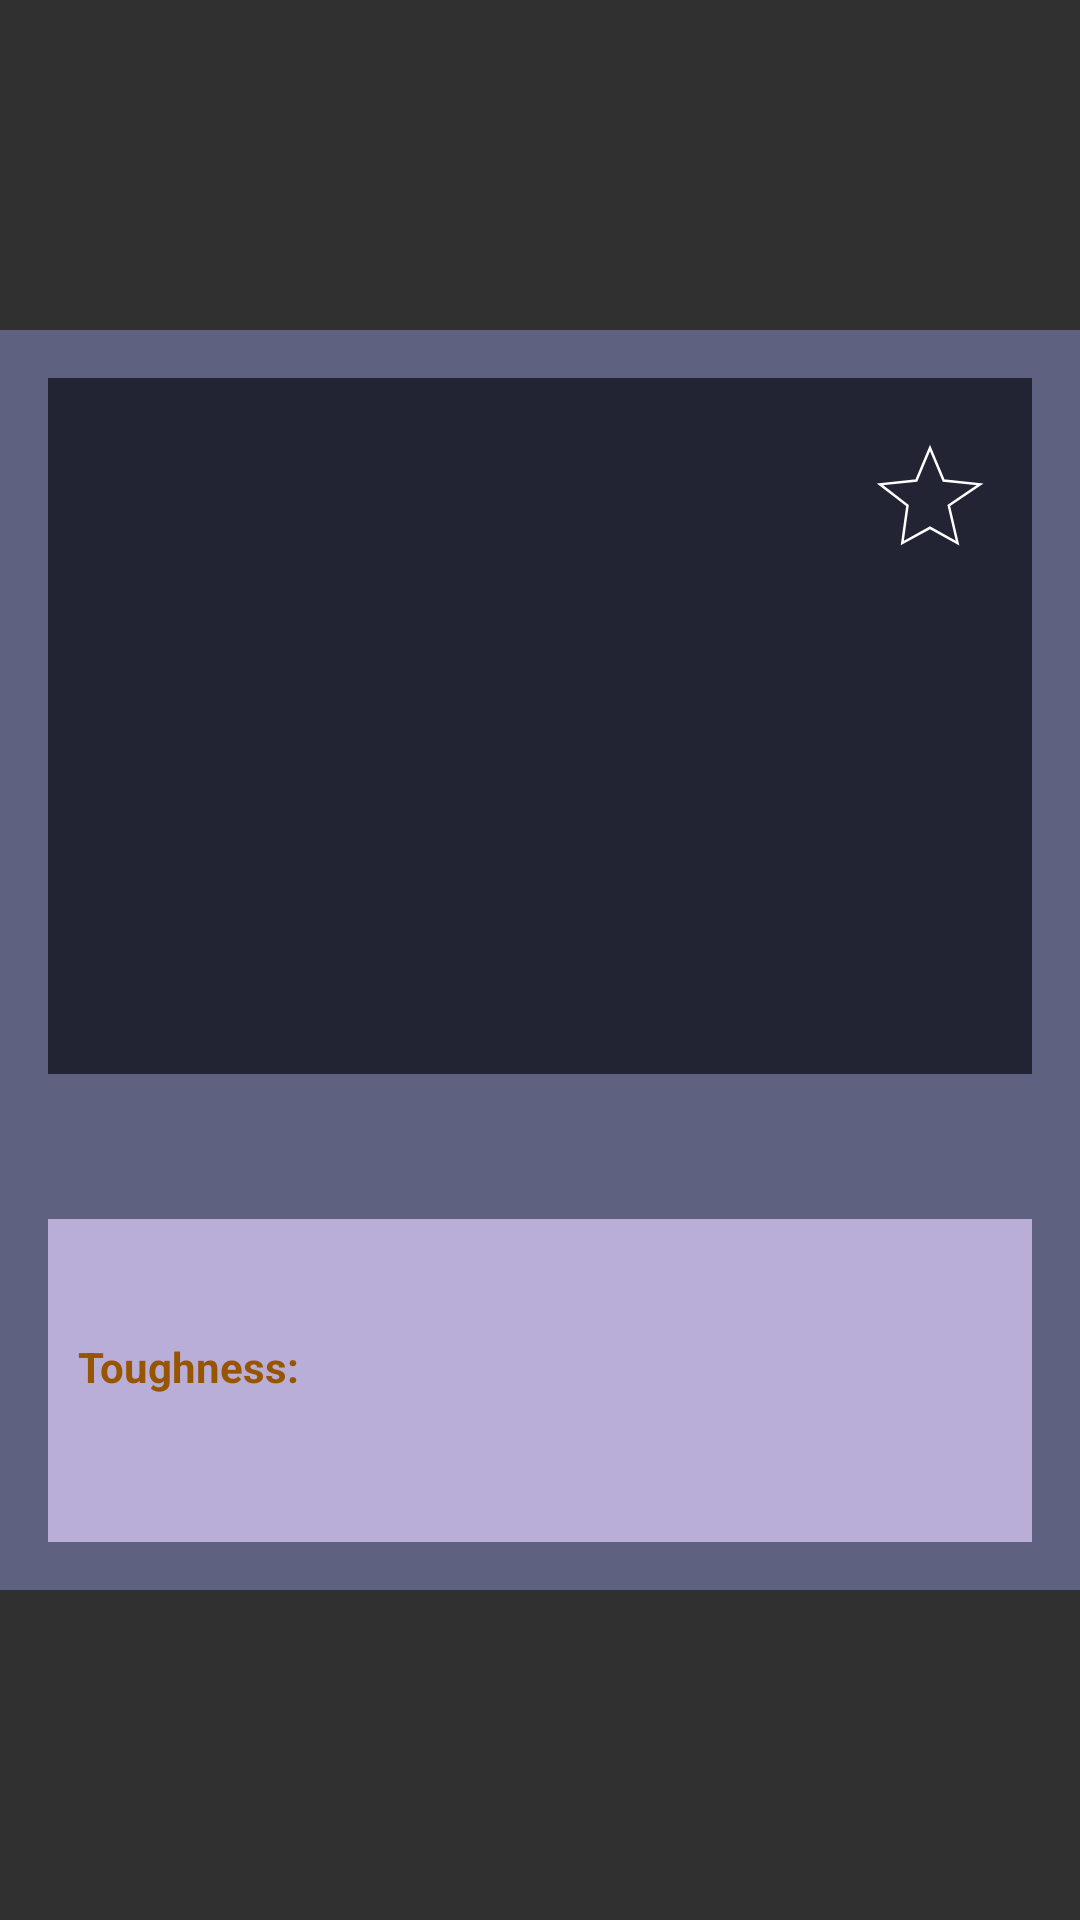

Icons on this 1080w x 1920h Android screen, each with the point to tap as [x,y]:
star: [930,495]
